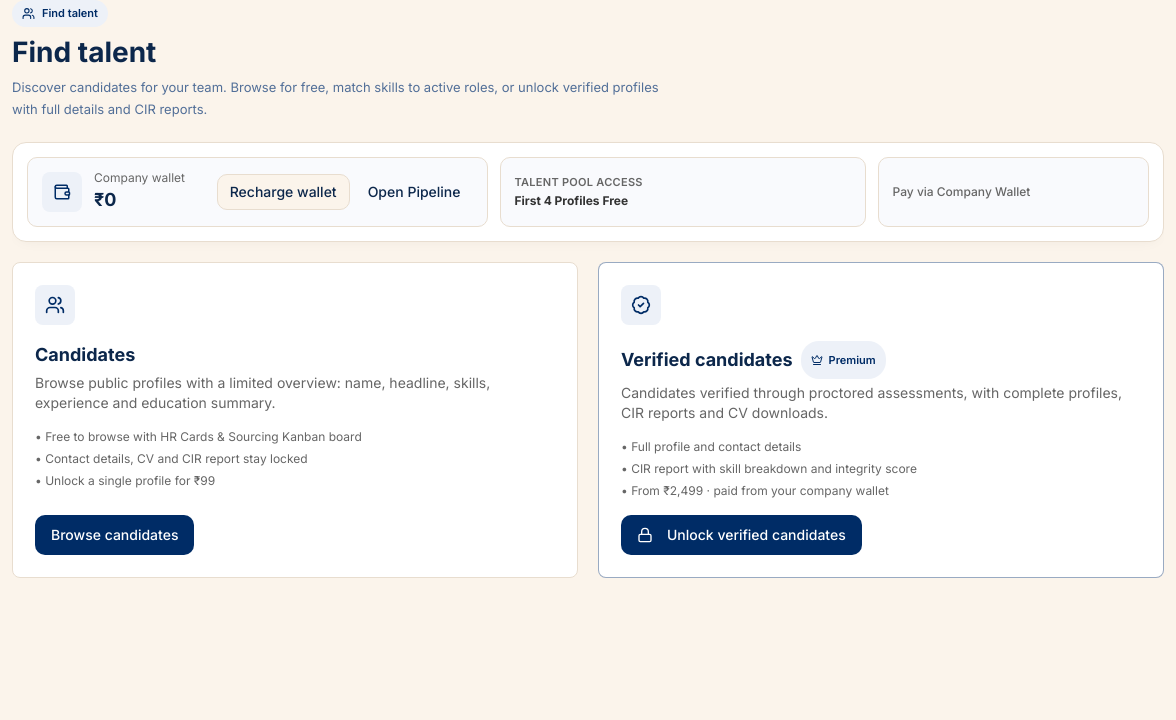
Test: Find Talent › browses normal candidates with a limited overview and no contact data
Click the button "Browse candidates".
click(115, 535)  # box [35,515,194,555]
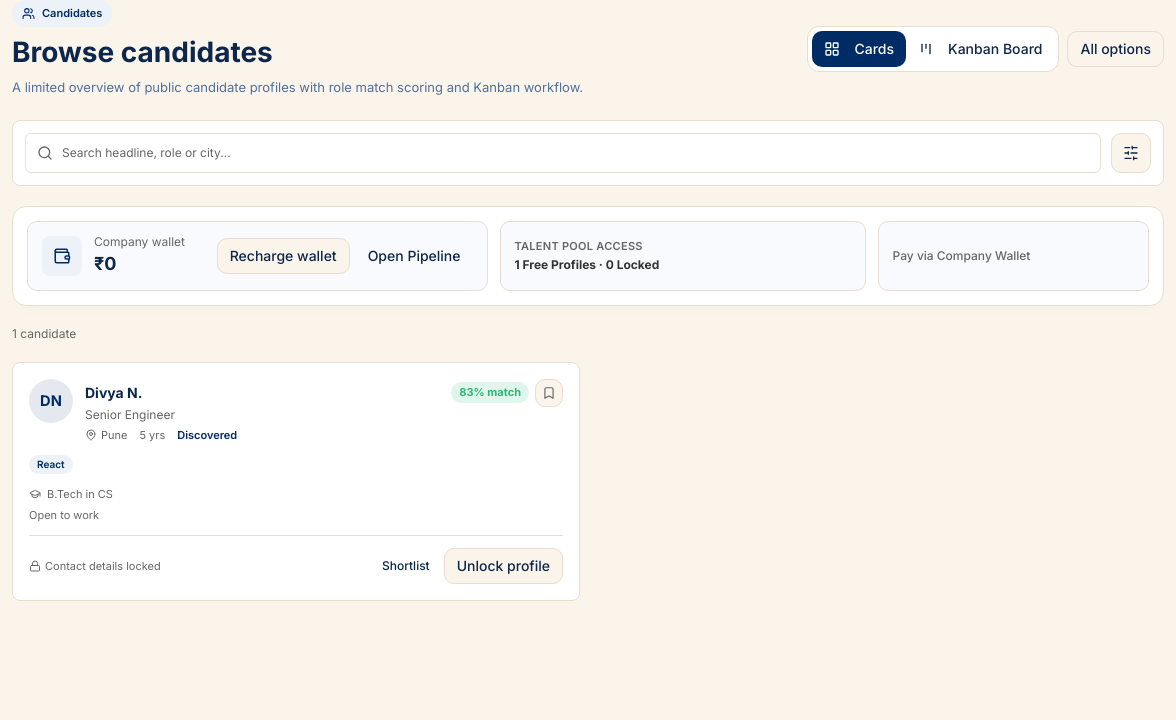
Expected: the text "Divya N." is shown, [85,383,142,403]
Expected: the text "B.Tech in CS" is shown, [29,487,113,501]
Expected: the text "Contact details locked" is shown, [29,558,161,574]
